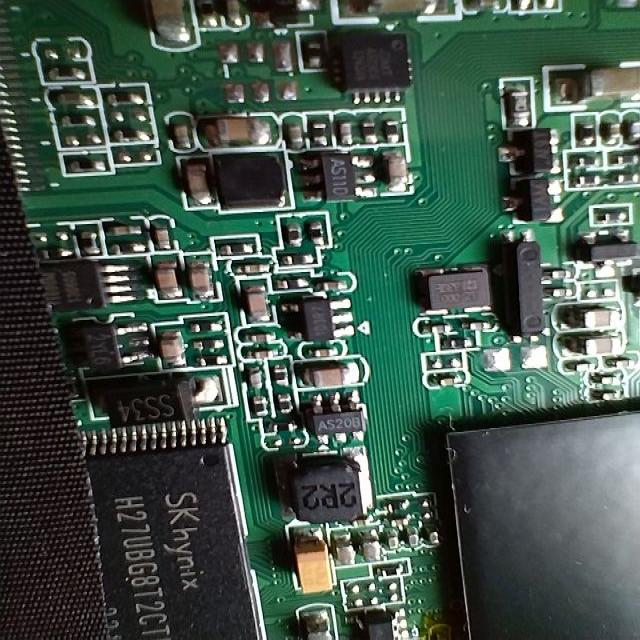resistor: (98, 82, 149, 118), (38, 58, 98, 88), (244, 386, 279, 430), (273, 209, 310, 250), (209, 233, 262, 260), (47, 86, 101, 112), (75, 222, 107, 260), (307, 114, 333, 154), (308, 212, 333, 250), (268, 356, 293, 392), (384, 107, 402, 151)
